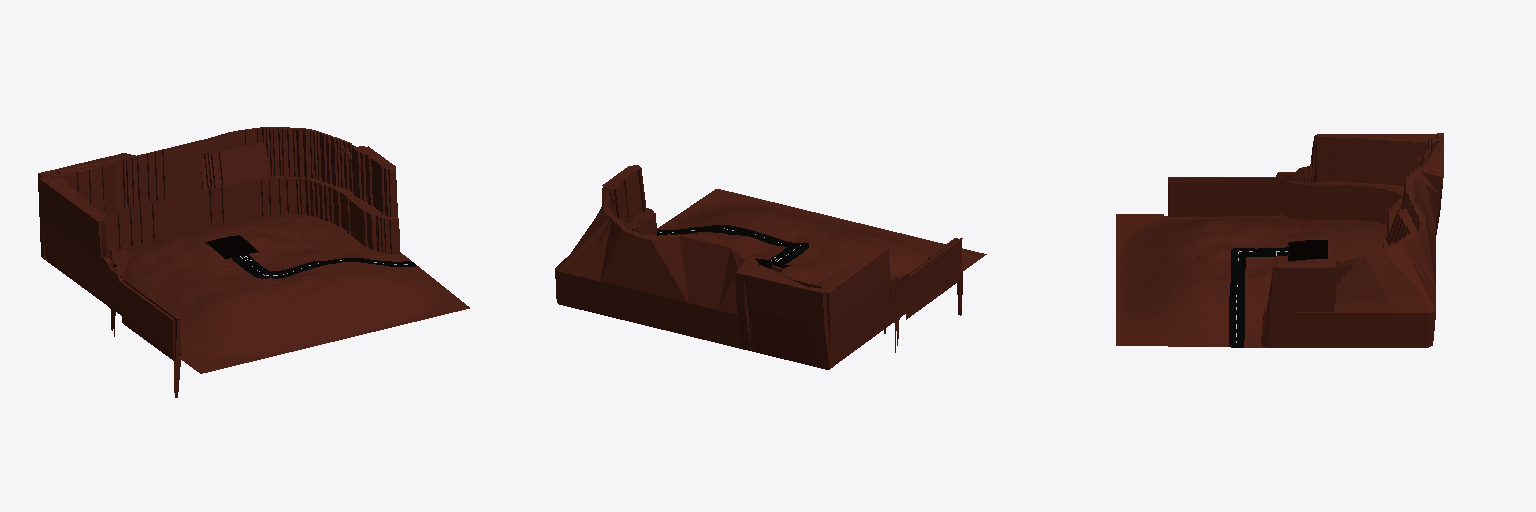
Rendered from ground.obj.
3 renders of one model, left to right at view 1: azimuth 30°, elevation 25°; view 2: azimuth 150°, elevation 25°; view 3: azimuth 270°, elevation 25°, orthographic.
Visible parts, largest first — view 1: Landscape; view 2: Landscape; view 3: Landscape.
Boxes of the visible parts, <box> form: Landscape: <box>38,127,469,397</box>; Landscape: <box>555,165,986,369</box>; Landscape: <box>1116,133,1443,347</box>.
Bounding box in the file's own units: 254 × 117 × 259.